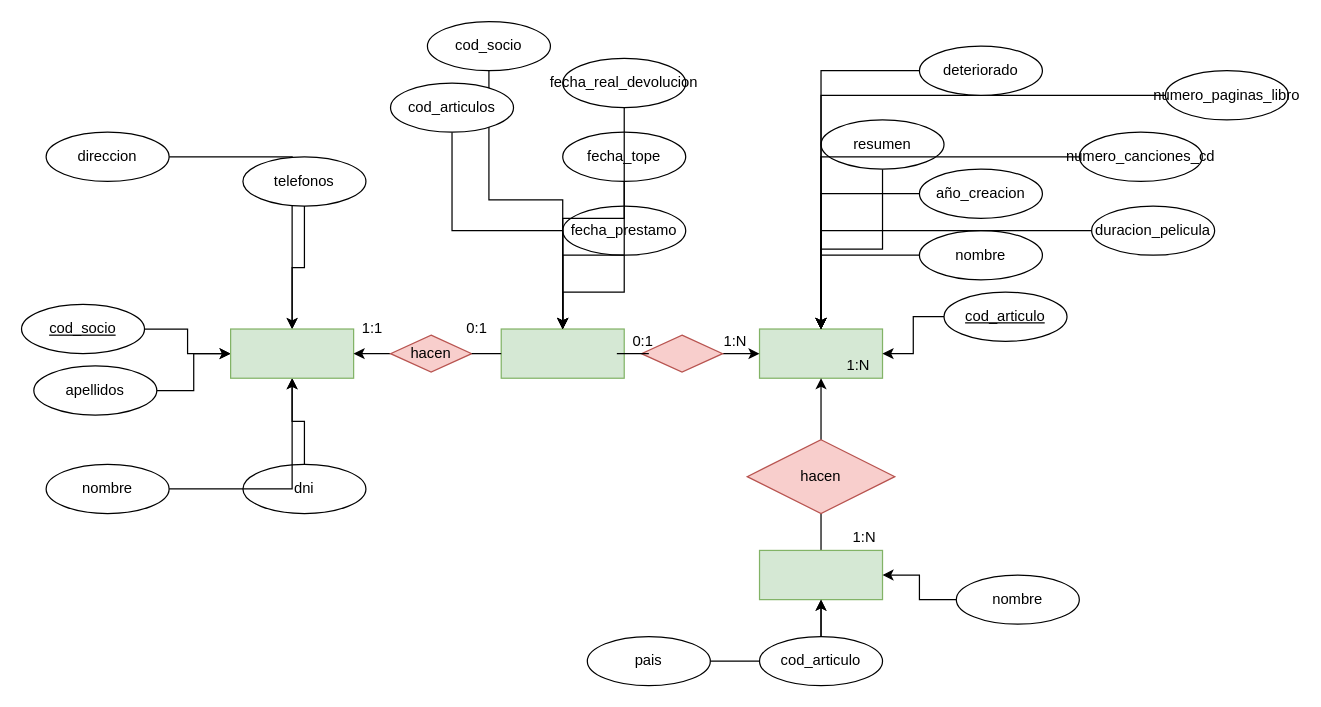
Image size: 1321x707. Some labels were removed from this diagram. Here are the shapes that lost their labels. From the top down, the box of each, then its label:
(229, 328, 354, 378): socio
(500, 328, 624, 378): prestamos
(640, 334, 723, 372): tienen
(758, 328, 883, 378): articulo
(758, 549, 883, 600): autores
